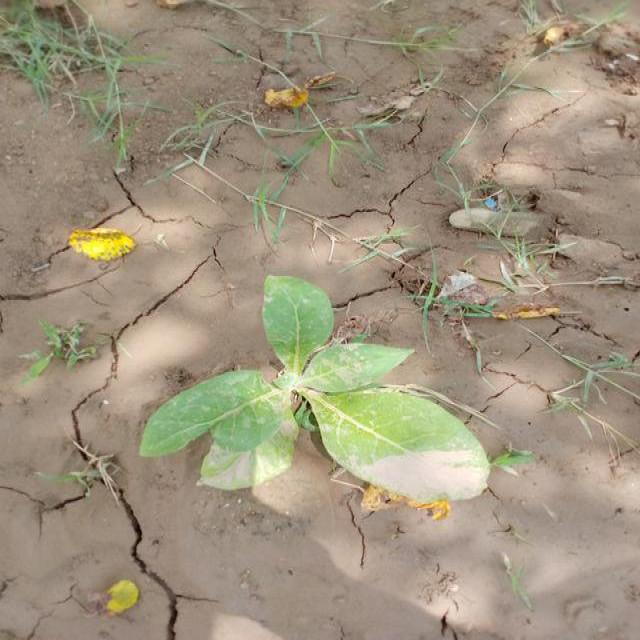crop: (141, 276, 489, 526)
